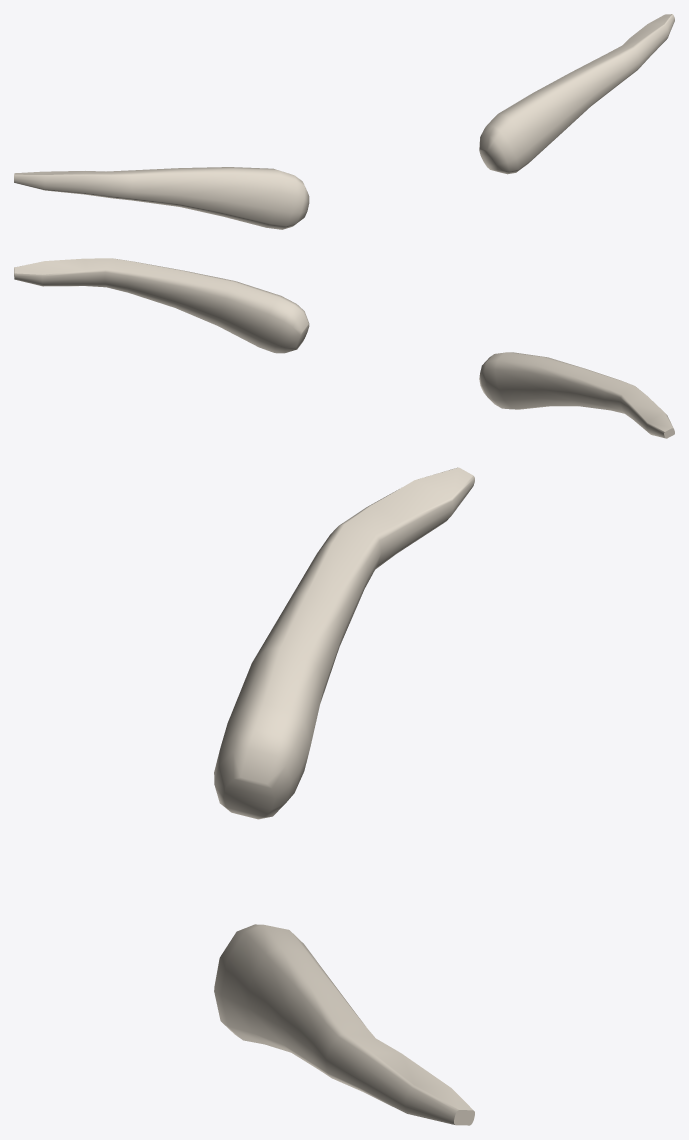
File: Eyebrows_26_07.fbx
3 renders of one model, top to bottom at view 1: azimuth 30°, elevation 25°; view 2: azimuth 150°, elevation 25°; view 3: azimuth 270°, elevation 25°, orthographic. The views are drawn at different scales.
Visible parts, largest first — view 1: Eyebrows_26_07; view 2: Eyebrows_26_07; view 3: Eyebrows_26_07.
Boxes of the visible parts, box(x1,y1,x2,y2) form: Eyebrows_26_07: box(14, 14, 674, 229); Eyebrows_26_07: box(14, 258, 674, 438); Eyebrows_26_07: box(214, 467, 474, 1125).
Bounding box in the file's own units: 17.7 × 1.89 × 3.02.
